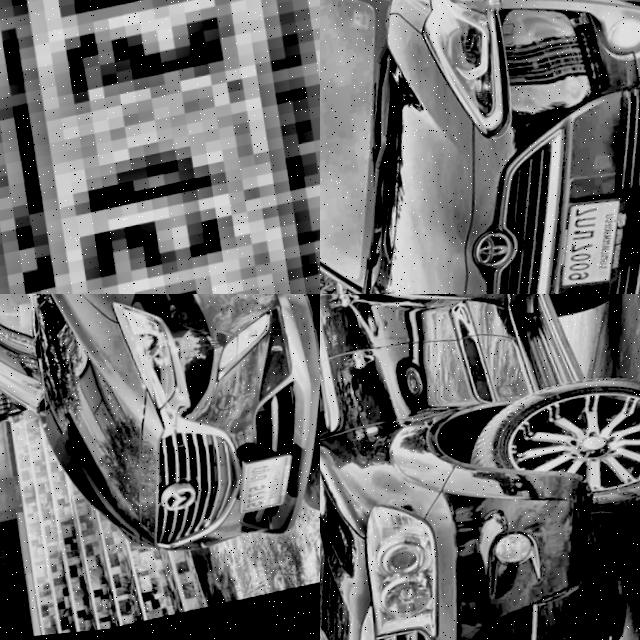license-plate: (0, 0, 320, 294), (541, 194, 640, 294), (227, 461, 299, 526)
